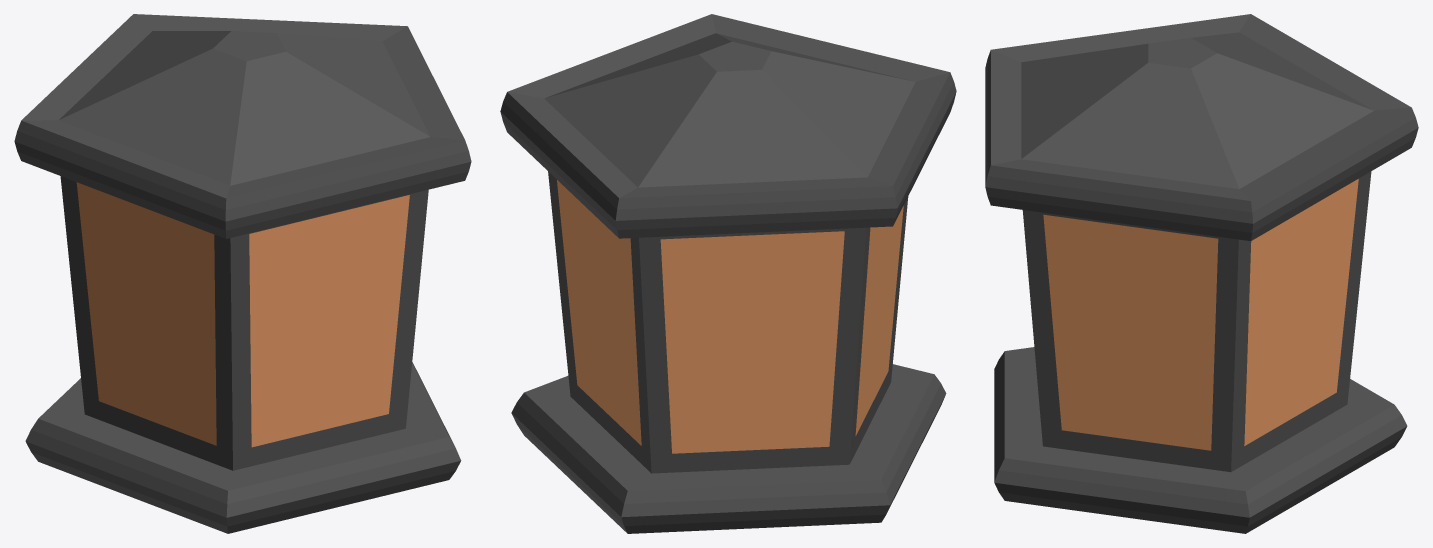
The model's file is lamp.fbx.
3 renders of one model, left to right at view 1: azimuth 30°, elevation 25°; view 2: azimuth 150°, elevation 25°; view 3: azimuth 270°, elevation 25°, orthographic.
Parts seen in each view (by area): view 1: Cylinder; view 2: Cylinder; view 3: Cylinder.
Boxes of the visible parts, box(x1,y1,x2,y2) form: Cylinder: box(14, 14, 471, 533); Cylinder: box(500, 14, 956, 533); Cylinder: box(985, 14, 1418, 533).
Size of the model in its own units: 212 by 202 by 201.
